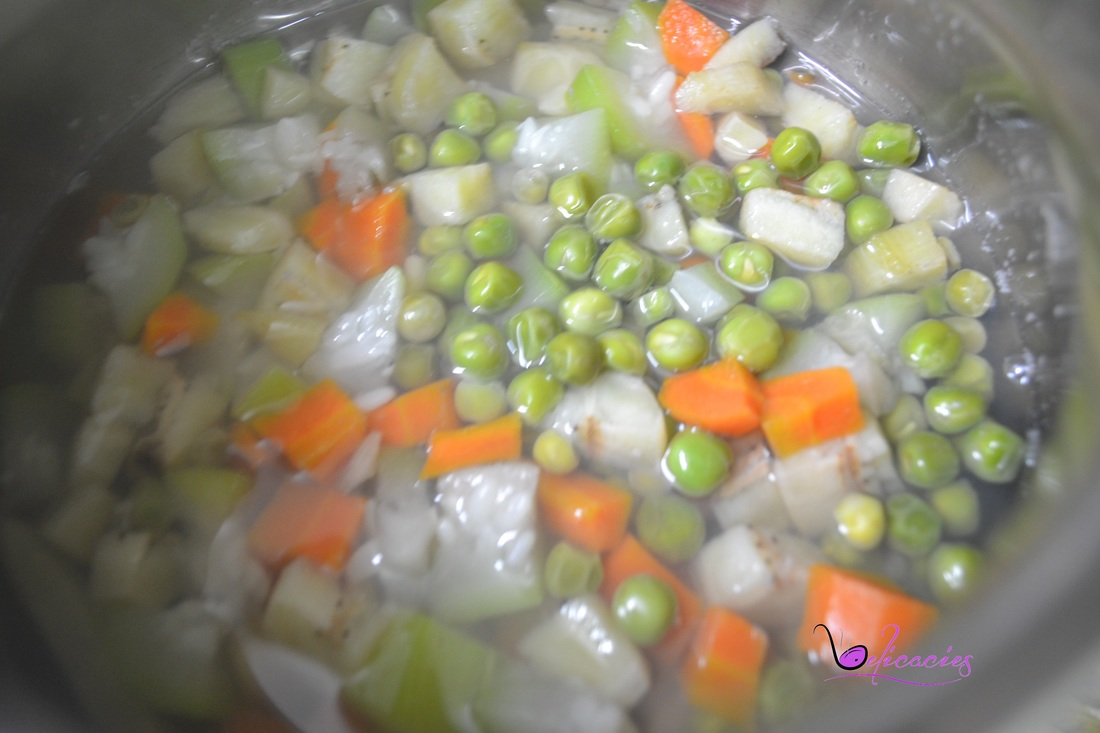boiled peas: (416, 149, 797, 391)
